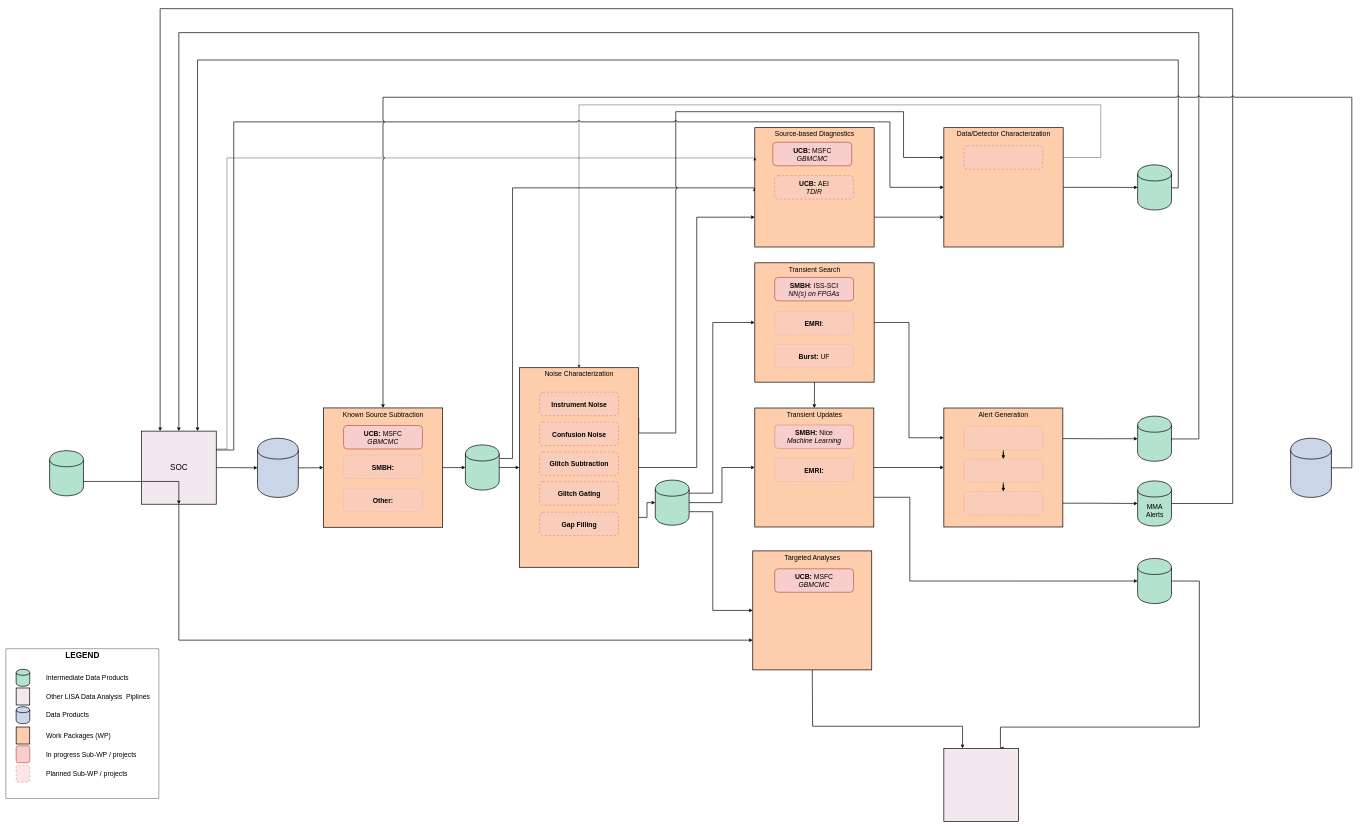
Image size: 1361x828. Some labels were removed from this diagram. The shapes that lost their labels are listed below. From the top down, each one's centre as x and y in pixels, then its label:
At [1003,157]: "Glitches: Nice".
At [1154,187]: "Data Quality Flags".
At [1003,438]: "Internal Event Notices".
At [1154,438]: "Protected Periods".
At [66,473]: "External Triggers".
At [278,468]: "L1".
At [482,467]: "r(t,f)".
At [1003,470]: "Localization Maps".
At [1311,468]: "L3".
At [672,502]: "r(t,f) Sn(t,f)".
At [1003,503]: "External Event Notices".
At [1154,581]: "Global Proposal".
At [981,785]: "Global Fit".
